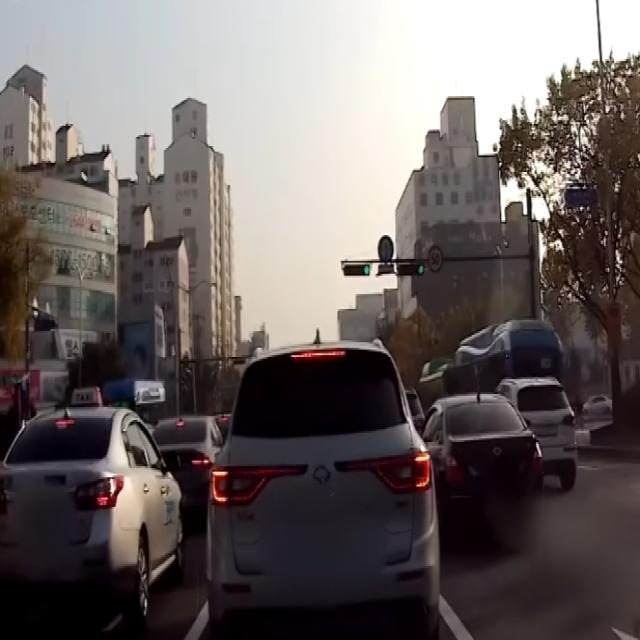Green Light: (363, 263, 370, 276), (417, 264, 424, 275)
